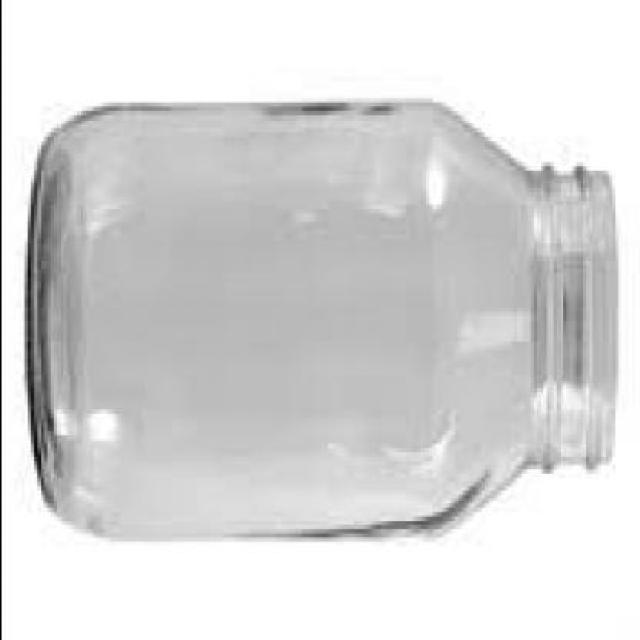GLASS: (29, 98, 617, 533)
